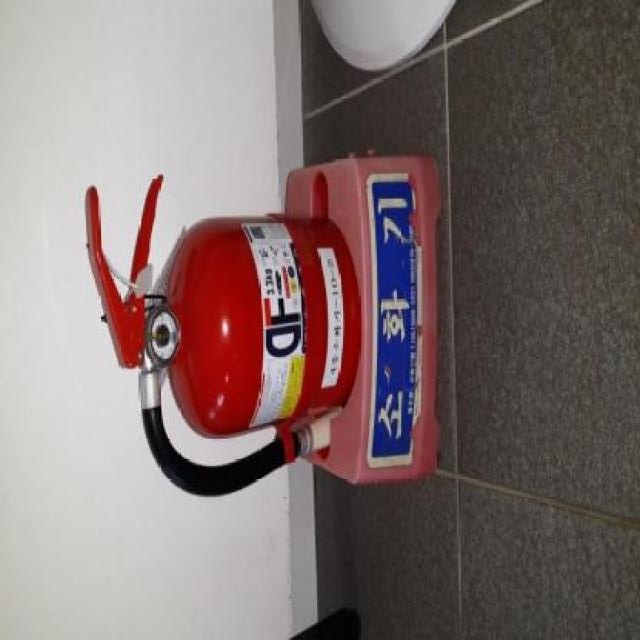fire extinguisher: (85, 172, 360, 497)
